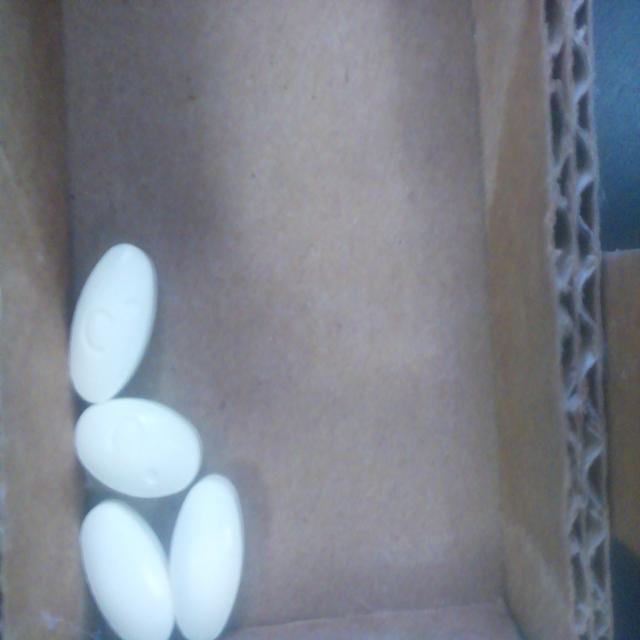pill: (69, 244, 157, 403), (80, 499, 174, 640), (75, 398, 202, 498), (169, 474, 243, 640)
